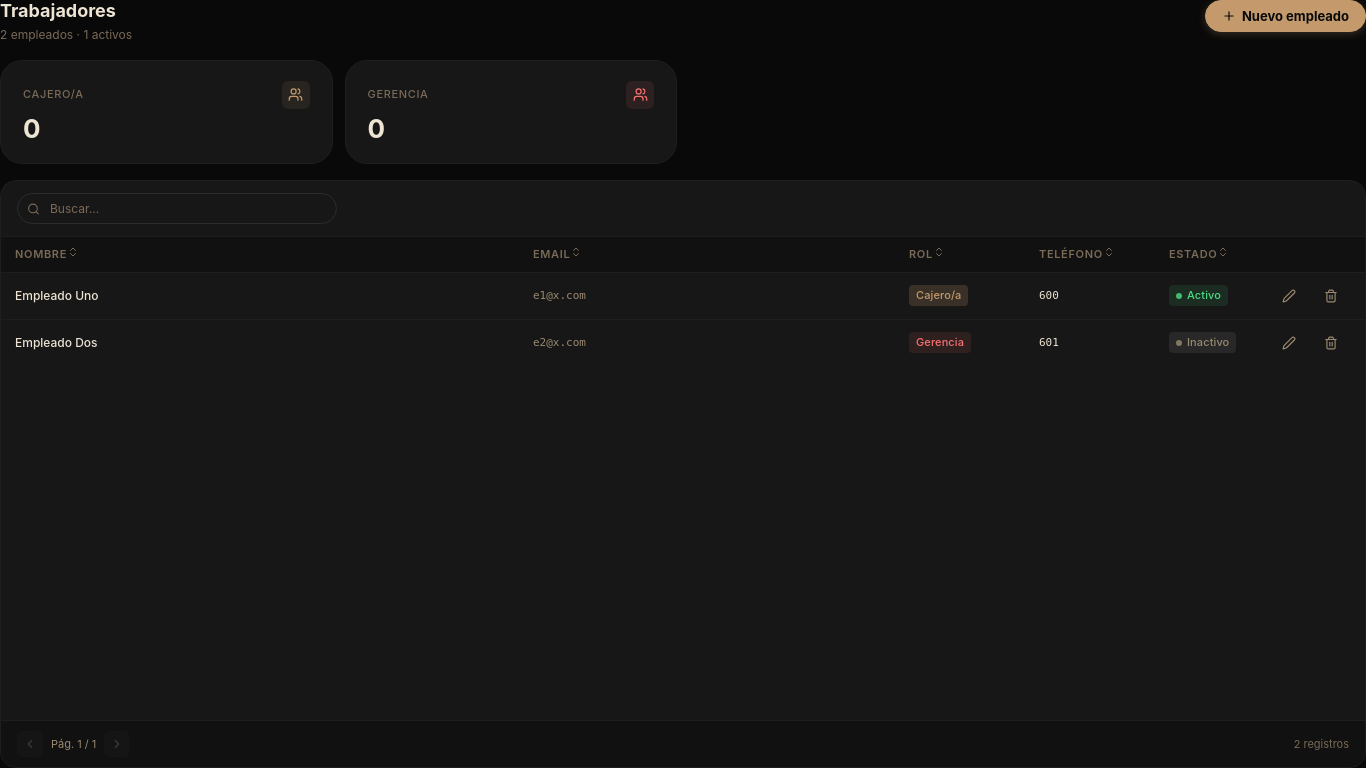
Scenario: EmployeesPage — full CRUD path › opens create, fills required fields, saves
Later steps or results of the test are not shown.
Expected: the text "Empleado Uno" is shown, [15, 288, 98, 303]
Click the button "Nuevo empleado": click(1286, 16) [1205, 0, 1365, 32]
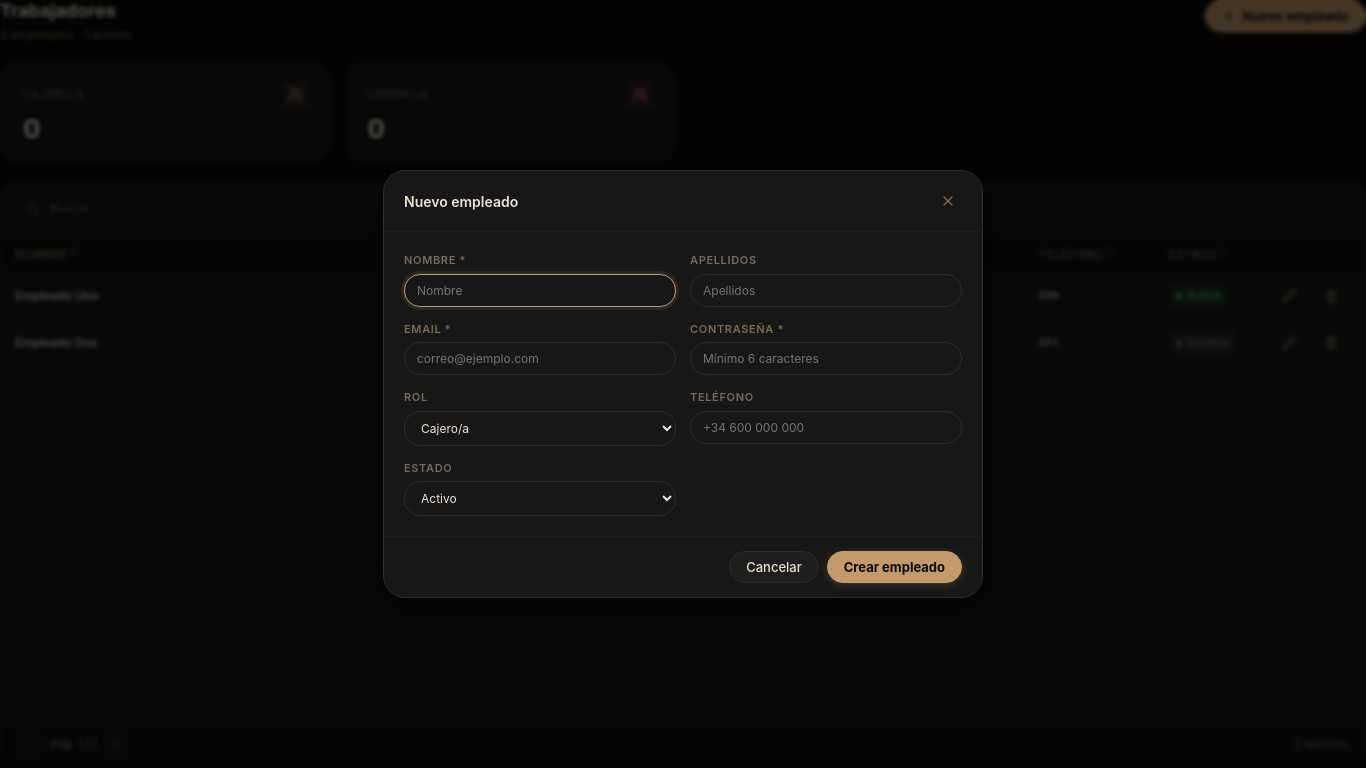
Now the field labelled "Nombre *" is shown, box [404, 274, 676, 306]
